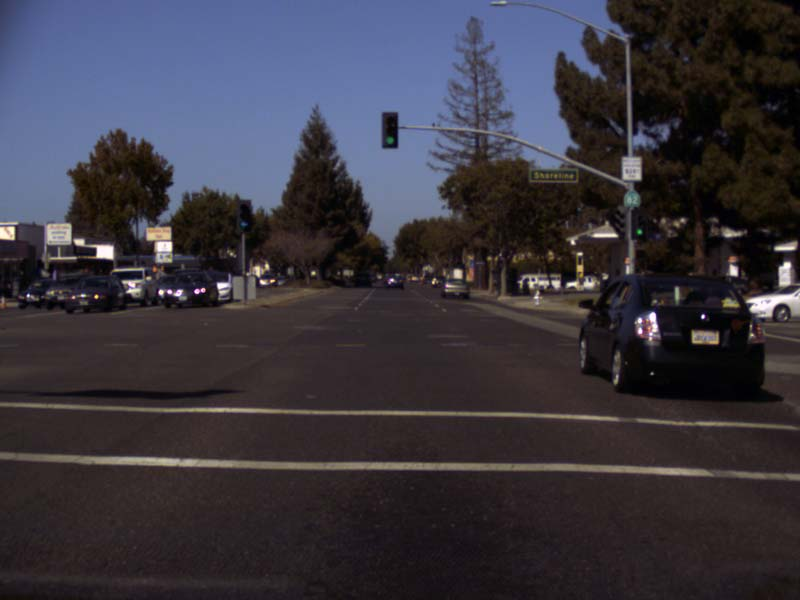Green: (380, 112, 399, 147), (235, 199, 250, 231), (631, 210, 645, 240)
